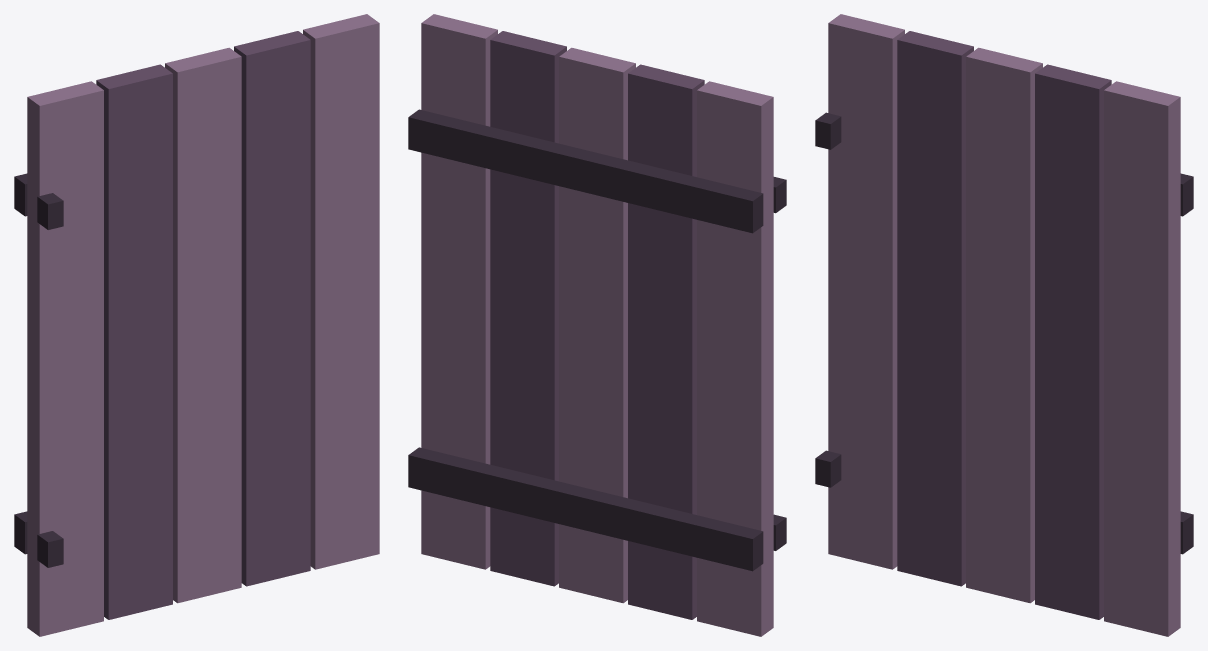
Rendered from TW_WOOD_GATE_LEAF_A_LOD0.glb.
The picture shows the model from 3 angles, left to right: view 1: azimuth 30°, elevation 25°; view 2: azimuth 150°, elevation 25°; view 3: azimuth 330°, elevation 25°; orthographic projection.
Visible parts, largest first — view 1: TW_WOOD_GATE_LEAF_A_LOD0; view 2: TW_WOOD_GATE_LEAF_A_LOD0; view 3: TW_WOOD_GATE_LEAF_A_LOD0.
Part boxes in pixels (x1=…): TW_WOOD_GATE_LEAF_A_LOD0: x1=14, y1=14, x2=379, y2=636; TW_WOOD_GATE_LEAF_A_LOD0: x1=408, y1=14, x2=786, y2=636; TW_WOOD_GATE_LEAF_A_LOD0: x1=815, y1=14, x2=1193, y2=636.
Bounding box in the file's own units: 1.12 × 1.65 × 0.19.
Materials: 1 (1 with a texture image).
